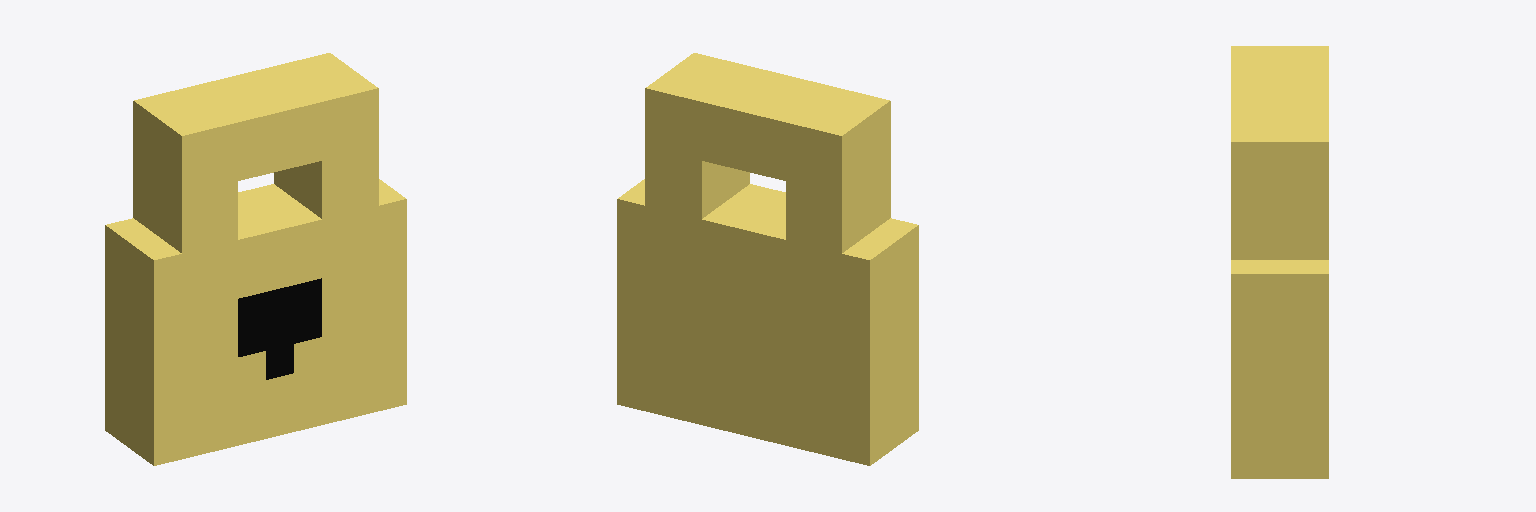
3 renders of one model, left to right at view 1: azimuth 30°, elevation 25°; view 2: azimuth 150°, elevation 25°; view 3: azimuth 270°, elevation 25°, orthographic.
Visible parts, largest first — view 1: object 1; view 2: object 1; view 3: object 1.
Boxes of the visible parts, box(x1,y1,x2,y2) form: object 1: box(105, 53, 406, 465); object 1: box(617, 53, 918, 465); object 1: box(1231, 46, 1328, 478).
Bounding box in the file's own units: 0.9 × 1.1 × 0.3.
1 materials, 1 textured.